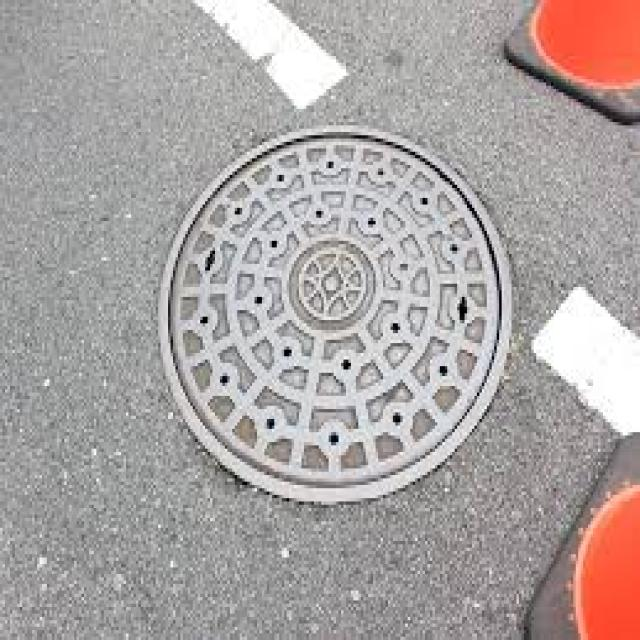manhole: (156, 124, 515, 503)
